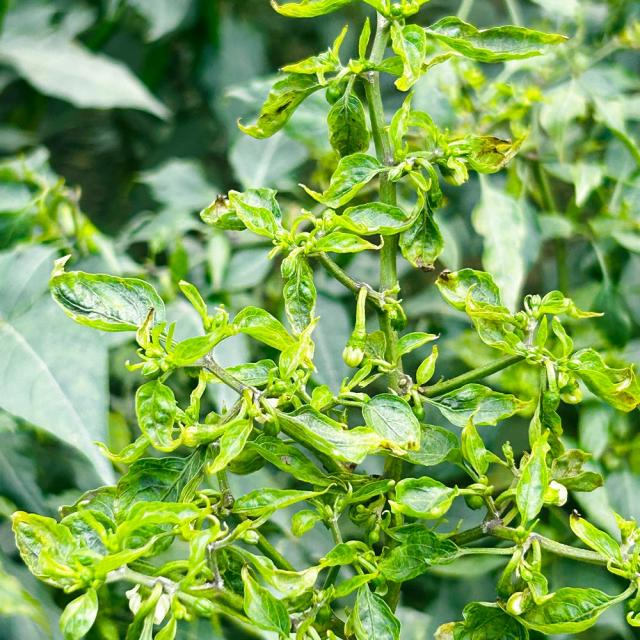Chilli_Leaf_Curl: (8, 1, 638, 638), (47, 254, 166, 346), (360, 392, 422, 453)
